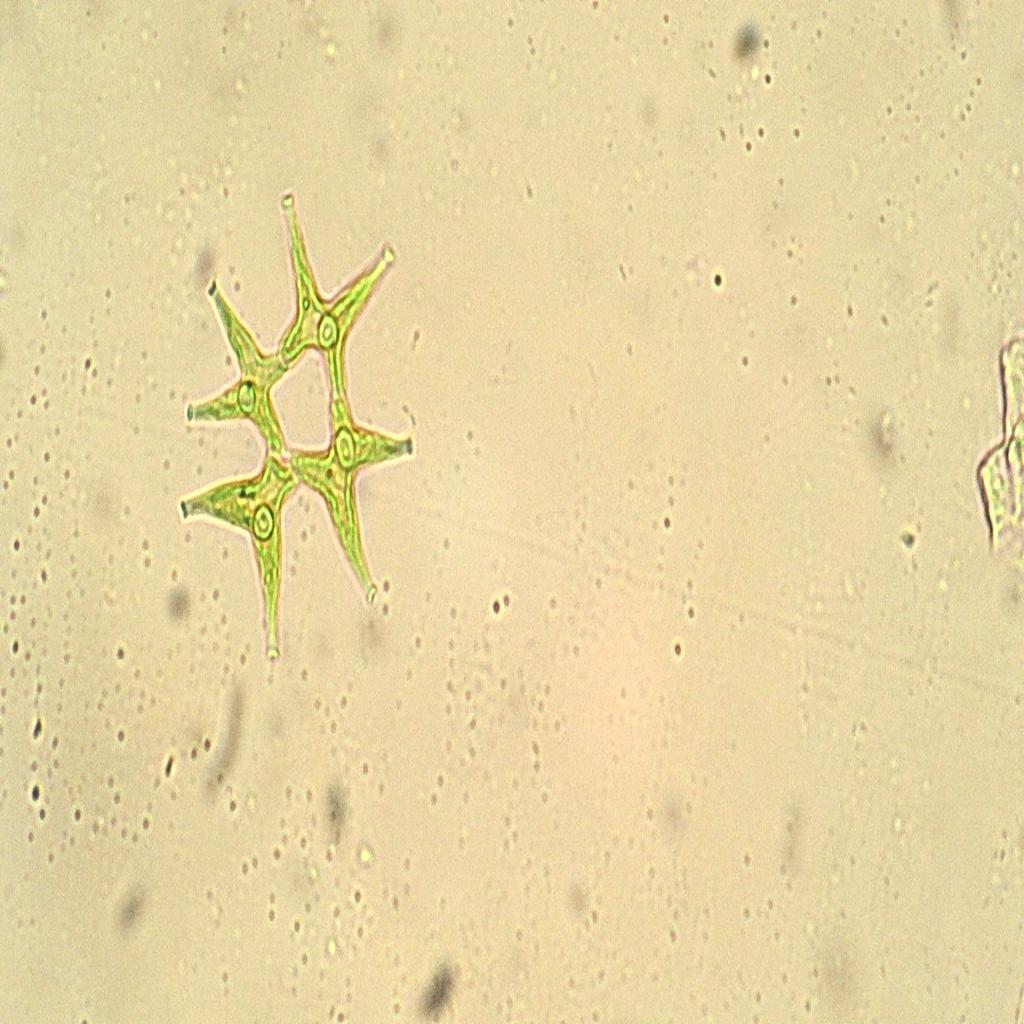Pediastrum_75FI: (175, 169, 440, 682)
